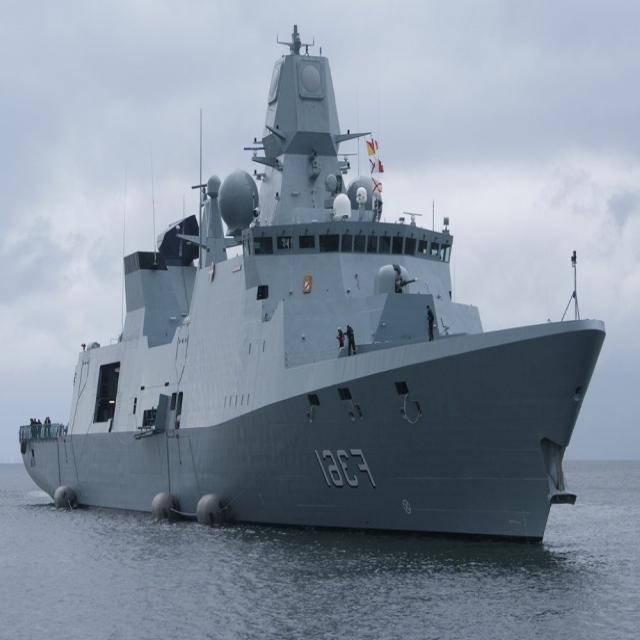navalvessels: (7, 0, 629, 551)
